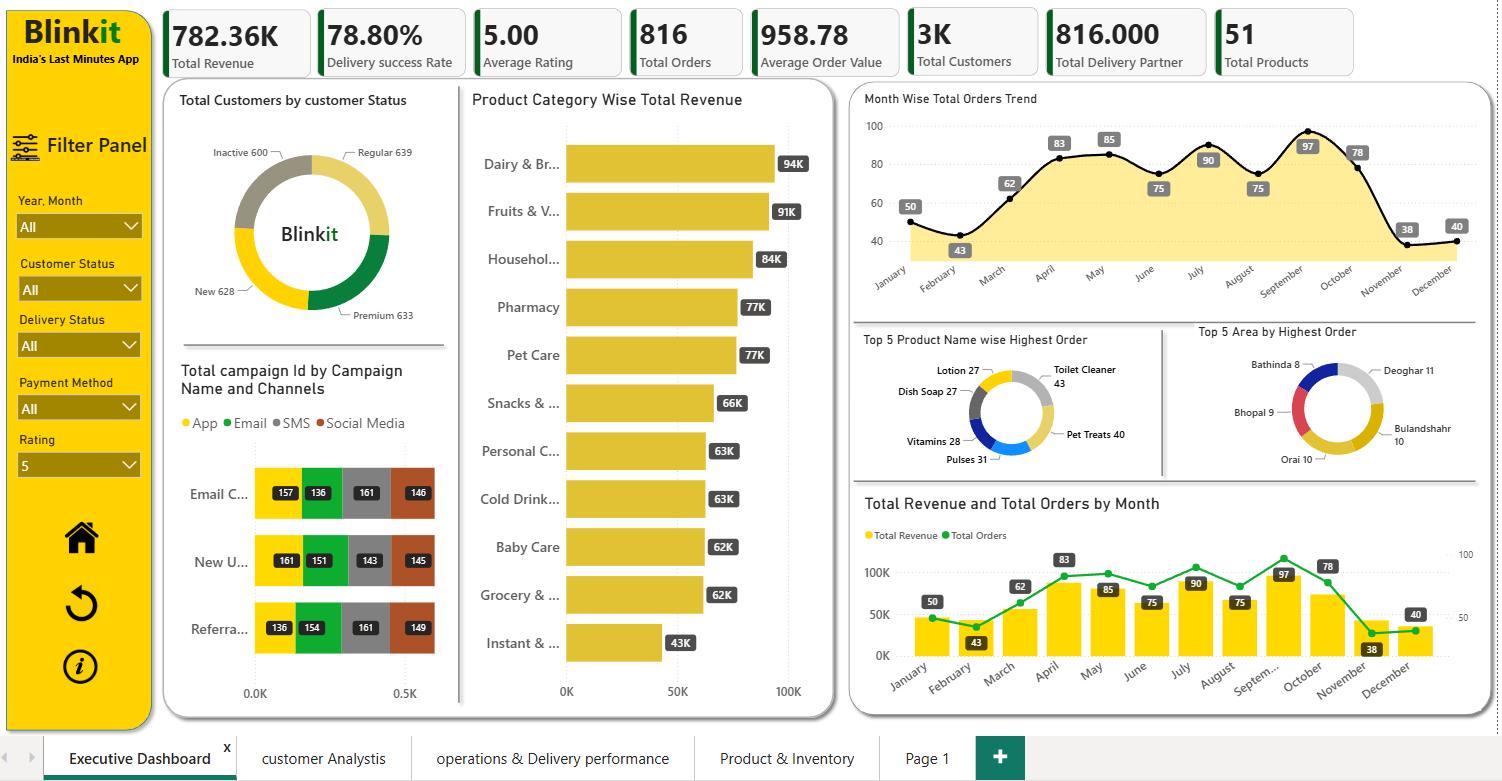

The dashboard page shown, as its layout file describes it:
{"tool":"powerbi","page":{"name":"Executive Dashboard","canvas":[2000,1000],"ordinal":0},"visuals":[{"type":"shape","box":[3.8,22.7,212.3,978.3],"z":0},{"type":"textbox","box":[30,25,165,70],"z":1000},{"type":"textbox","box":[15,81.7,180,36.7],"z":2000},{"type":"cardVisual","fields":{"Data":["All Measures.Total Revenue"]},"box":[215,26.7,208.6,101.4],"z":3000},{"type":"cardVisual","fields":{"Data":["All Measures.Total Orders"]},"box":[838.4,25.2,161.8,100.9],"z":4000},{"type":"cardVisual","fields":{"Data":["All Measures.Delivery success Rate"]},"box":[421.4,24.3,208.6,101.4],"z":5000},{"type":"cardVisual","fields":{"Data":["All Measures.Average Order Value"]},"box":[1000.2,25.2,208.6,101.4],"z":6000},{"type":"cardVisual","fields":{"Data":["All Measures.Average Rating"]},"box":[630,24.3,208.6,101.4],"z":7000},{"type":"cardVisual","fields":{"Data":["All Measures.Total Customers"]},"box":[1208.2,23.1,185.1,101.9],"z":8000},{"type":"shape","box":[211.8,113.5,913.4,871.8],"z":9000},{"type":"donutChart","title":"Total Customers by customer Status","fields":{"Category":["blinkit_customers.customer_segment"],"Y":["All Measures.Total Customers"]},"box":[239,138,363.4,345.2],"z":10000},{"type":"clusteredBarChart","title":"Product Category Wise Total Revenue","fields":{"Category":["blinkit_products.category"],"Y":["All Measures.Total Revenue"]},"box":[627.9,138.1,472.8,824],"z":11000},{"type":"barChart","title":"Total campaign Id by Campaign Name and Channels","fields":{"Category":["blinkit_marketing_performance.campaign_name"],"Series":["blinkit_marketing_performance.channel"],"Y":["All Measures.Total Campaign"]},"box":[239.3,499.8,364.7,465.1],"z":12000},{"type":"slicer","fields":{"Values":["blinkit_customers.customer_segment"]},"box":[18.9,355.1,185.2,84.9],"z":13000},{"type":"slicer","fields":{"Values":["blinkit_delivery_performance.delivery_status"]},"box":[16.8,430.8,185.2,83],"z":14000},{"type":"slicer","fields":{"Values":["blinkit_orders.payment_method"]},"box":[16.8,512.7,185.2,84.9],"z":15000},{"type":"slicer","fields":{"Values":["Rating_icons.Rating"]},"box":[16.8,590.5,185.2,84.9],"z":16000},{"type":"shape","box":[239.3,463.1,364.7,30.9],"z":17000},{"type":"shape","box":[604,125.4,25.1,839.4],"z":18000},{"type":"image","box":[88.3,880.4,45.4,54.8],"z":19000},{"type":"image","box":[88.3,794.3,49.2,54.8],"z":20000},{"type":"shape","box":[1126,118.9,874.7,862.8],"z":21000},{"type":"areaChart","title":" Month Wise Total Orders Trend","fields":{"Category":["blinkit_orders.order_date.Variation.Date Hierarchy.Year","blinkit_orders.order_date.Variation.Date Hierarchy.Quarter","blinkit_orders.order_date.Variation.Date Hierarchy.Month","blinkit_orders.order_date.Variation.Date Hierarchy.Day"],"Y":["All Measures.Total Orders"]},"box":[1151.9,139.9,826.7,298],"z":22000},{"type":"shape","box":[1132.6,435,846.8,27.3],"z":23000},{"type":"lineStackedColumnComboChart","fields":{"Category":["blinkit_orders.order_date.Variation.Date Hierarchy.Month"],"Y":["All Measures.Total Revenue"],"Y2":["All Measures.Total Orders"]},"box":[1151.4,675.9,827.1,289.7],"z":24000},{"type":"cardVisual","fields":{"Data":["All Measures.Total Delivery Partner"]},"box":[1393.2,25.2,224.8,100.9],"z":25000},{"type":"cardVisual","fields":{"Data":["All Measures.Total Products"]},"box":[1618,25.2,195.4,100.9],"z":26000},{"type":"image","box":[18.3,185,38.3,58.3],"z":27000},{"type":"textbox","box":[60.9,189.1,153.4,54.6],"z":28000},{"type":"shape","box":[1132.6,647.2,846.8,27.3],"z":29000},{"type":"slicer","fields":{"Values":["blinkit_orders.order_date.Variation.Date Hierarchy.Year","blinkit_orders.order_date.Variation.Date Hierarchy.Month"]},"box":[14.7,271.1,189.1,84.1],"z":30000},{"type":"donutChart","title":"Top 5 Product Name wise Highest Order","fields":{"Category":["blinkit_products.product_name"],"Y":["All Measures.Total Orders"]},"box":[1149.8,462,405.9,185.1],"z":31000},{"type":"shape","box":[1543.8,450.1,20.4,212.3],"z":32000},{"type":"pieChart","title":"Top 5 Area by Highest Order","fields":{"Category":["blinkit_customers.area"],"Y":["All Measures.Total Orders"]},"box":[1597,449.7,382.4,197.5],"z":33000},{"type":"image","box":[75.6,697.6,75.6,73.8],"z":34000},{"type":"textbox","box":[373,307,102,48],"z":35000}]}

Visuals, with their boxes on the page's 2000x1000 design canvas (x1, y1, x2, y2). These are canvas units, not pixel positions in the 1502x781 screenshot, which may show the page scaled, cropped or inside an application window:
shape: <region>4, 23, 216, 1001</region>
textbox: <region>30, 25, 195, 95</region>
textbox: <region>15, 82, 195, 118</region>
cardVisual - All Measures.Total Revenue: <region>215, 27, 424, 128</region>
cardVisual - All Measures.Total Orders: <region>838, 25, 1000, 126</region>
cardVisual - All Measures.Delivery success Rate: <region>421, 24, 630, 126</region>
cardVisual - All Measures.Average Order Value: <region>1000, 25, 1209, 127</region>
cardVisual - All Measures.Average Rating: <region>630, 24, 839, 126</region>
cardVisual - All Measures.Total Customers: <region>1208, 23, 1393, 125</region>
shape: <region>212, 114, 1125, 985</region>
"Total Customers by customer Status" donutChart: <region>239, 138, 602, 483</region>
"Product Category Wise Total Revenue" clusteredBarChart: <region>628, 138, 1101, 962</region>
"Total campaign Id by Campaign Name and Channels" barChart: <region>239, 500, 604, 965</region>
slicer - blinkit_customers.customer_segment: <region>19, 355, 204, 440</region>
slicer - blinkit_delivery_performance.delivery_status: <region>17, 431, 202, 514</region>
slicer - blinkit_orders.payment_method: <region>17, 513, 202, 598</region>
slicer - Rating_icons.Rating: <region>17, 590, 202, 675</region>
shape: <region>239, 463, 604, 494</region>
shape: <region>604, 125, 629, 965</region>
image: <region>88, 880, 134, 935</region>
image: <region>88, 794, 138, 849</region>
shape: <region>1126, 119, 2001, 982</region>
" Month Wise Total Orders Trend" areaChart: <region>1152, 140, 1979, 438</region>
shape: <region>1133, 435, 1979, 462</region>
lineStackedColumnComboChart - blinkit_orders.order_date.Variation.Date Hierarchy.Month x All Measures.Total Revenue: <region>1151, 676, 1978, 966</region>
cardVisual - All Measures.Total Delivery Partner: <region>1393, 25, 1618, 126</region>
cardVisual - All Measures.Total Products: <region>1618, 25, 1813, 126</region>
image: <region>18, 185, 57, 243</region>
textbox: <region>61, 189, 214, 244</region>
shape: <region>1133, 647, 1979, 674</region>
slicer - blinkit_orders.order_date.Variation.Date Hierarchy.Year x blinkit_orders.order_date.Variation.Date Hierarchy.Month: <region>15, 271, 204, 355</region>
"Top 5 Product Name wise Highest Order" donutChart: <region>1150, 462, 1556, 647</region>
shape: <region>1544, 450, 1564, 662</region>
"Top 5 Area by Highest Order" pieChart: <region>1597, 450, 1979, 647</region>
image: <region>76, 698, 151, 771</region>
textbox: <region>373, 307, 475, 355</region>
